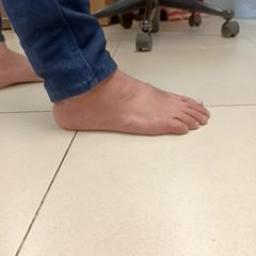Lateral View -Right Foot-: (34, 48, 229, 156)
